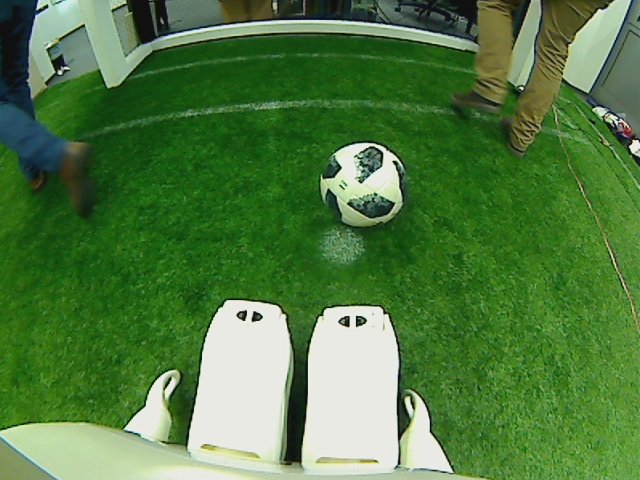ball: (318, 138, 408, 231)
